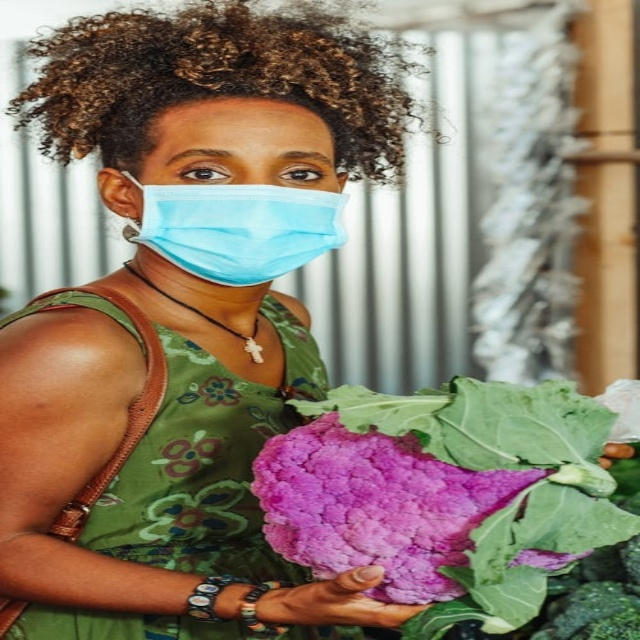Mascara: (119, 171, 352, 284)
Sin_gafas: (179, 167, 232, 181), (279, 168, 326, 182)
Sin_guantes: (249, 565, 425, 632)
